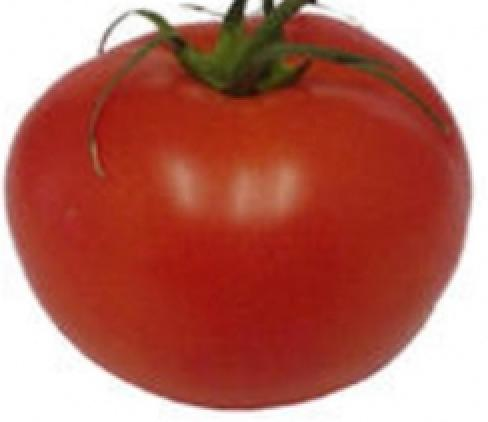tomato: (9, 20, 470, 411)
